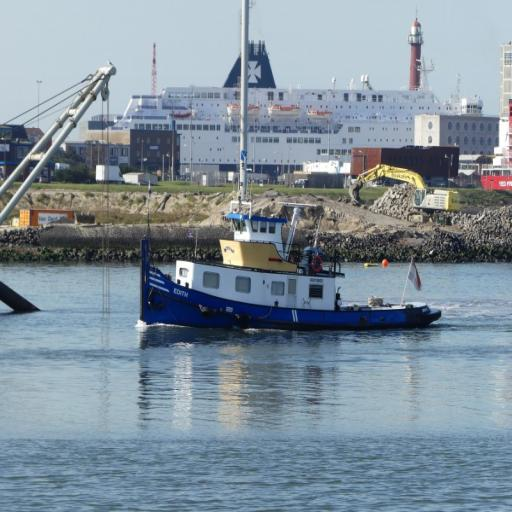tugboat: (136, 177, 445, 347)
